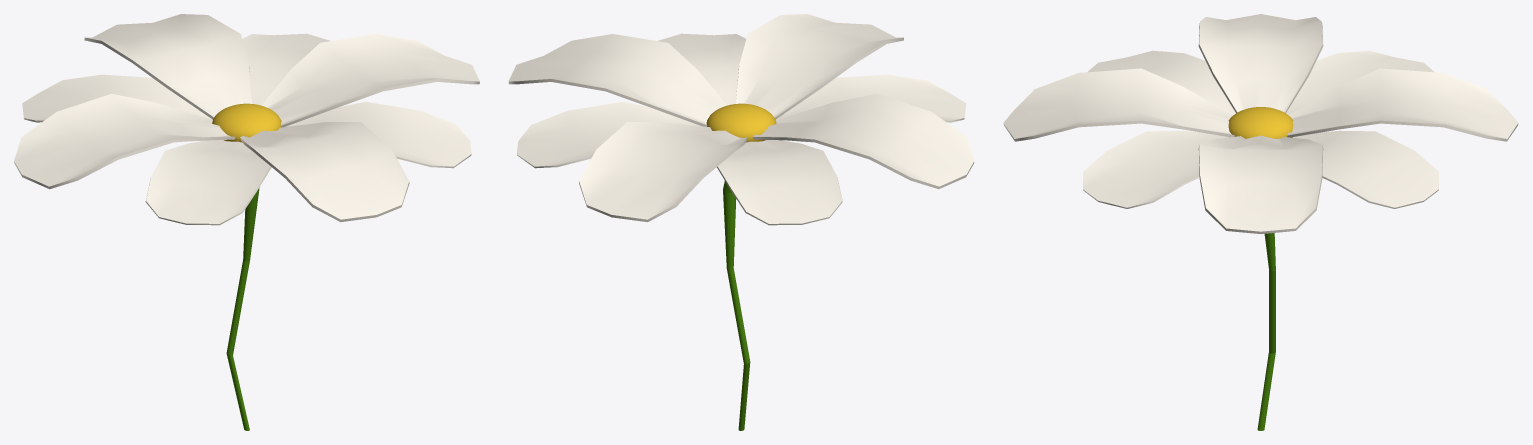
The model's file is Flower 2.fbx.
The picture shows the model from 3 angles, left to right: view 1: azimuth 30°, elevation 25°; view 2: azimuth 150°, elevation 25°; view 3: azimuth 270°, elevation 25°; orthographic projection.
Parts seen in each view (by area): view 1: Blume; view 2: Blume; view 3: Blume.
Part boxes in pixels (<box>): Blume: <box>14,14,479,430</box>; Blume: <box>508,14,974,430</box>; Blume: <box>1003,14,1518,430</box>.
Size of the model in its own units: 31.09 by 22.33 by 31.09.
